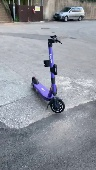beam: (28, 33, 69, 114)
